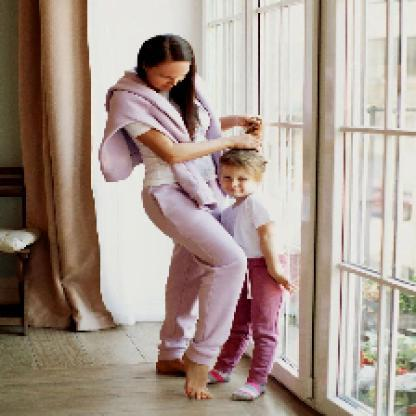child: (208, 149, 299, 404)
